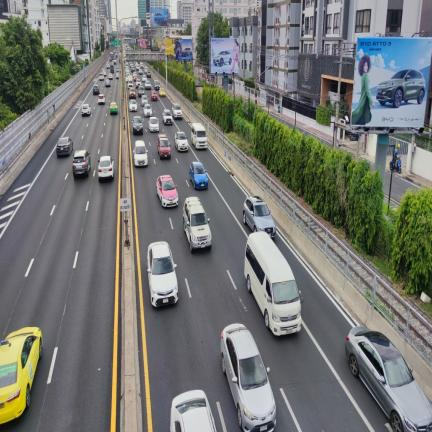car: (345, 326, 432, 430), (221, 323, 276, 431), (147, 241, 178, 307), (170, 390, 216, 431), (183, 197, 211, 253), (243, 196, 276, 238), (72, 150, 90, 177), (98, 155, 114, 181), (133, 140, 147, 166), (56, 137, 73, 157), (175, 131, 188, 151), (133, 116, 143, 134), (148, 116, 159, 131), (162, 109, 172, 124), (172, 104, 182, 118), (143, 103, 152, 116), (81, 104, 90, 115), (141, 94, 148, 106), (130, 100, 137, 111), (138, 85, 144, 97), (98, 94, 105, 104), (129, 89, 136, 99), (151, 90, 157, 101), (144, 80, 151, 89), (135, 80, 142, 88), (93, 86, 99, 94), (154, 81, 160, 89), (159, 89, 165, 96), (133, 73, 137, 82), (146, 70, 151, 77), (128, 81, 133, 88), (99, 73, 104, 80), (105, 79, 110, 86), (108, 73, 113, 79)
motorbike: (389, 152, 401, 173)
pickup: (157, 134, 170, 158)
taxi: (0, 327, 42, 424), (155, 175, 177, 206), (190, 161, 208, 188), (109, 102, 117, 114), (159, 88, 165, 96)
van: (244, 232, 300, 335), (191, 123, 207, 148)
